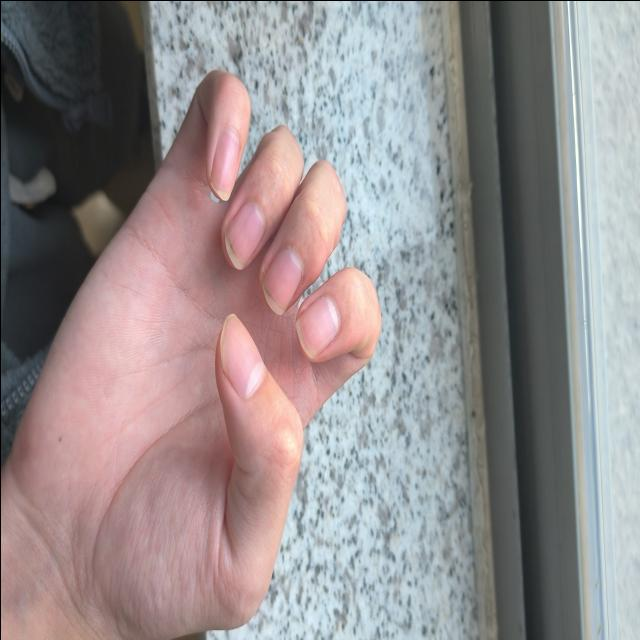Nail: (220, 313, 263, 395), (294, 294, 340, 357), (262, 246, 303, 314), (223, 200, 264, 268), (209, 128, 240, 198)
